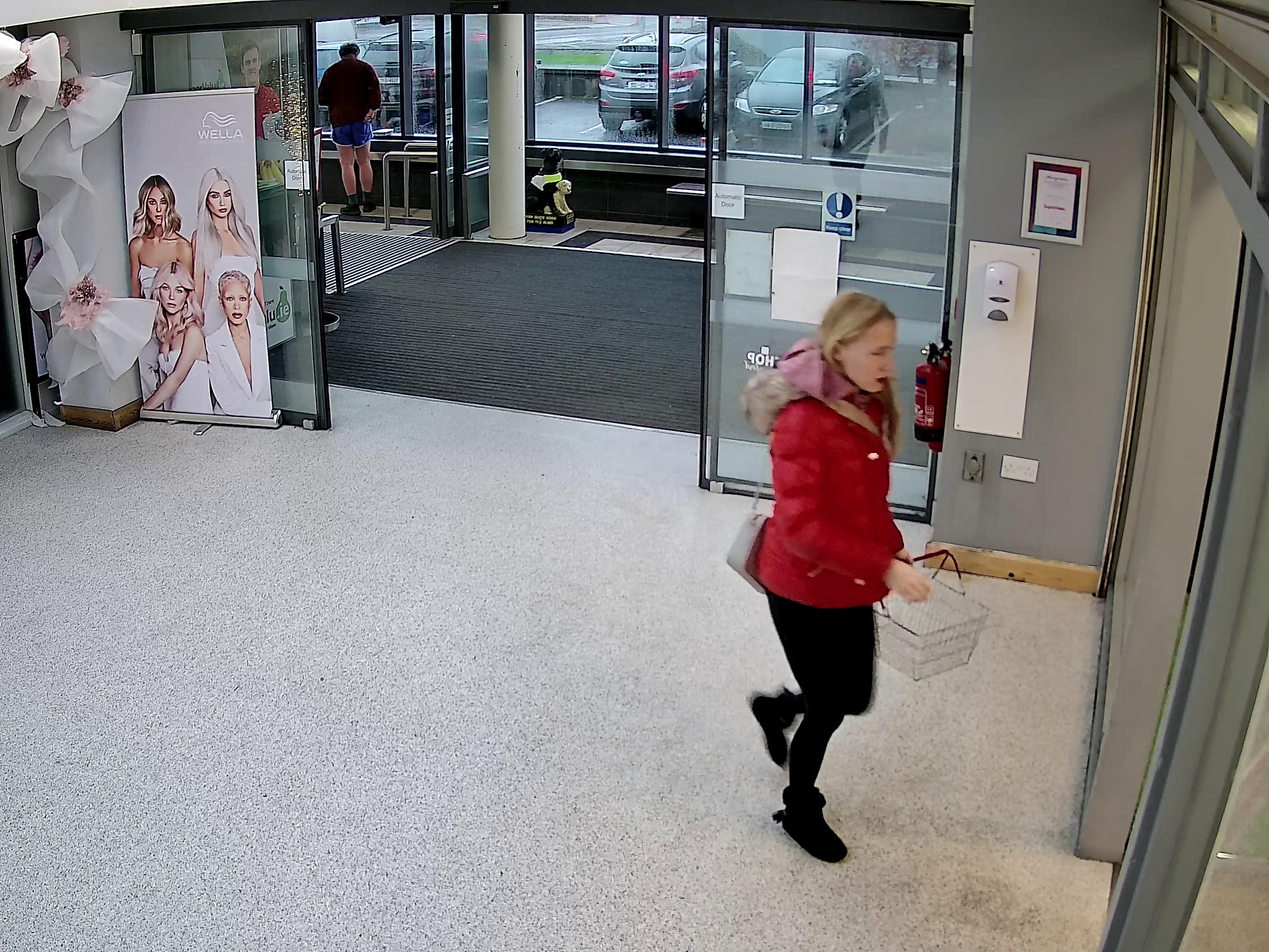backpack-or-handbag: (724, 507, 783, 596)
empty-basket: (868, 544, 992, 683)
person: (750, 293, 932, 861)
person-with-basket-trolly-and-backpack-handbag: (727, 292, 993, 863)
